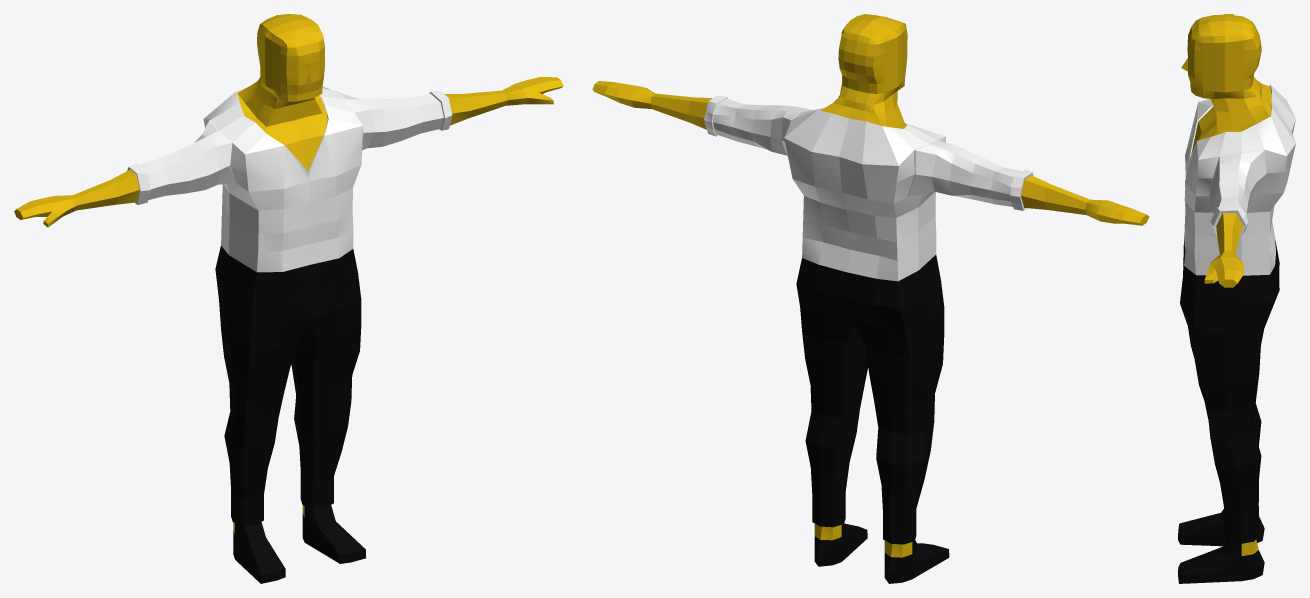
The picture shows the model from 3 angles, left to right: view 1: azimuth 30°, elevation 25°; view 2: azimuth 150°, elevation 25°; view 3: azimuth 270°, elevation 25°; orthographic projection.
Visible parts, largest first — view 1: Rogerio Vestido; view 2: Rogerio Vestido; view 3: Rogerio Vestido.
Part boxes in pixels (x1,y1,x2,y2): Rogerio Vestido: (14, 14, 563, 583); Rogerio Vestido: (592, 14, 1149, 583); Rogerio Vestido: (1178, 14, 1295, 583).
Bounding box in the file's own units: 0.9196 × 0.8677 × 0.1726.
